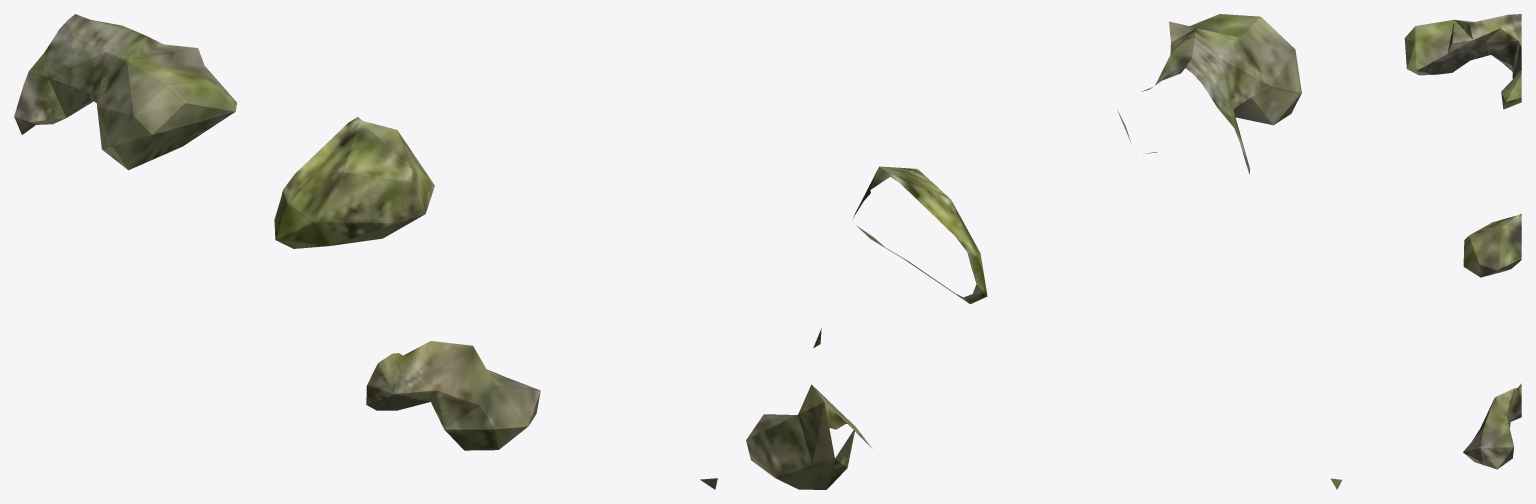
3 renders of one model, left to right at view 1: azimuth 30°, elevation 25°; view 2: azimuth 150°, elevation 25°; view 3: azimuth 270°, elevation 25°, orthographic. The views are drawn at different scales.
Bounding box in the file's own units: 1.48 × 1.29 × 0.677.
1 material, 1 textured.
